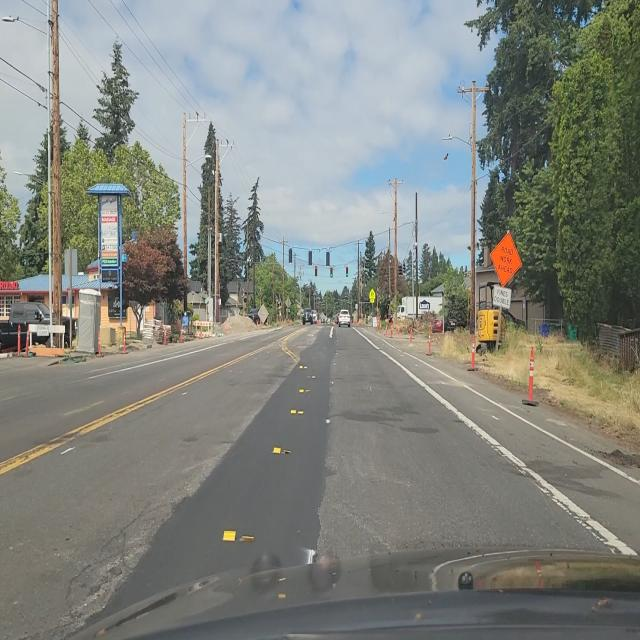car: (1, 301, 76, 352), (444, 314, 471, 332), (300, 308, 320, 326), (246, 308, 264, 326), (338, 309, 351, 328)
crosswalk-sign: (369, 289, 375, 303)
delineator: (523, 345, 538, 406), (467, 334, 478, 372), (25, 326, 31, 356), (17, 325, 22, 357), (428, 328, 432, 356), (122, 329, 126, 355), (98, 328, 101, 356), (409, 324, 413, 344), (163, 326, 167, 345), (384, 318, 388, 335), (390, 319, 393, 338), (180, 324, 183, 342), (378, 316, 381, 332), (224, 321, 227, 335), (199, 327, 202, 338)
